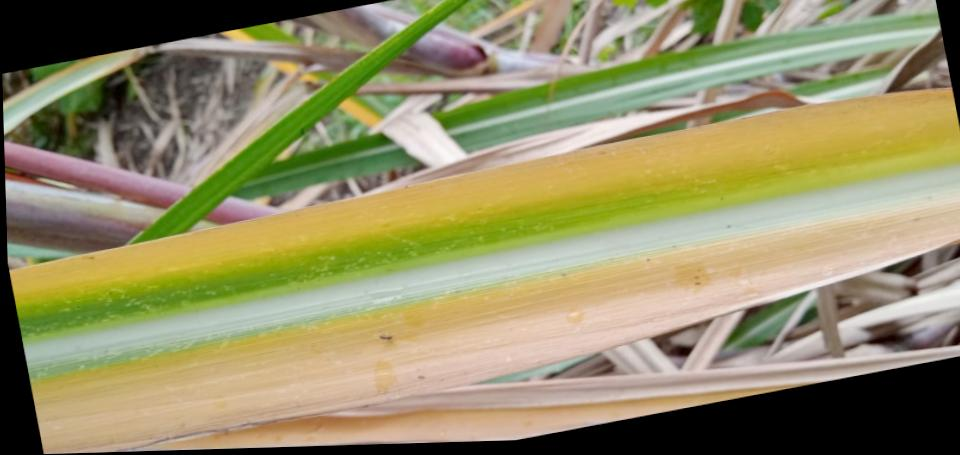Rust: (416, 374, 425, 380)
Yellow: (30, 190, 960, 454), (11, 89, 960, 300)
